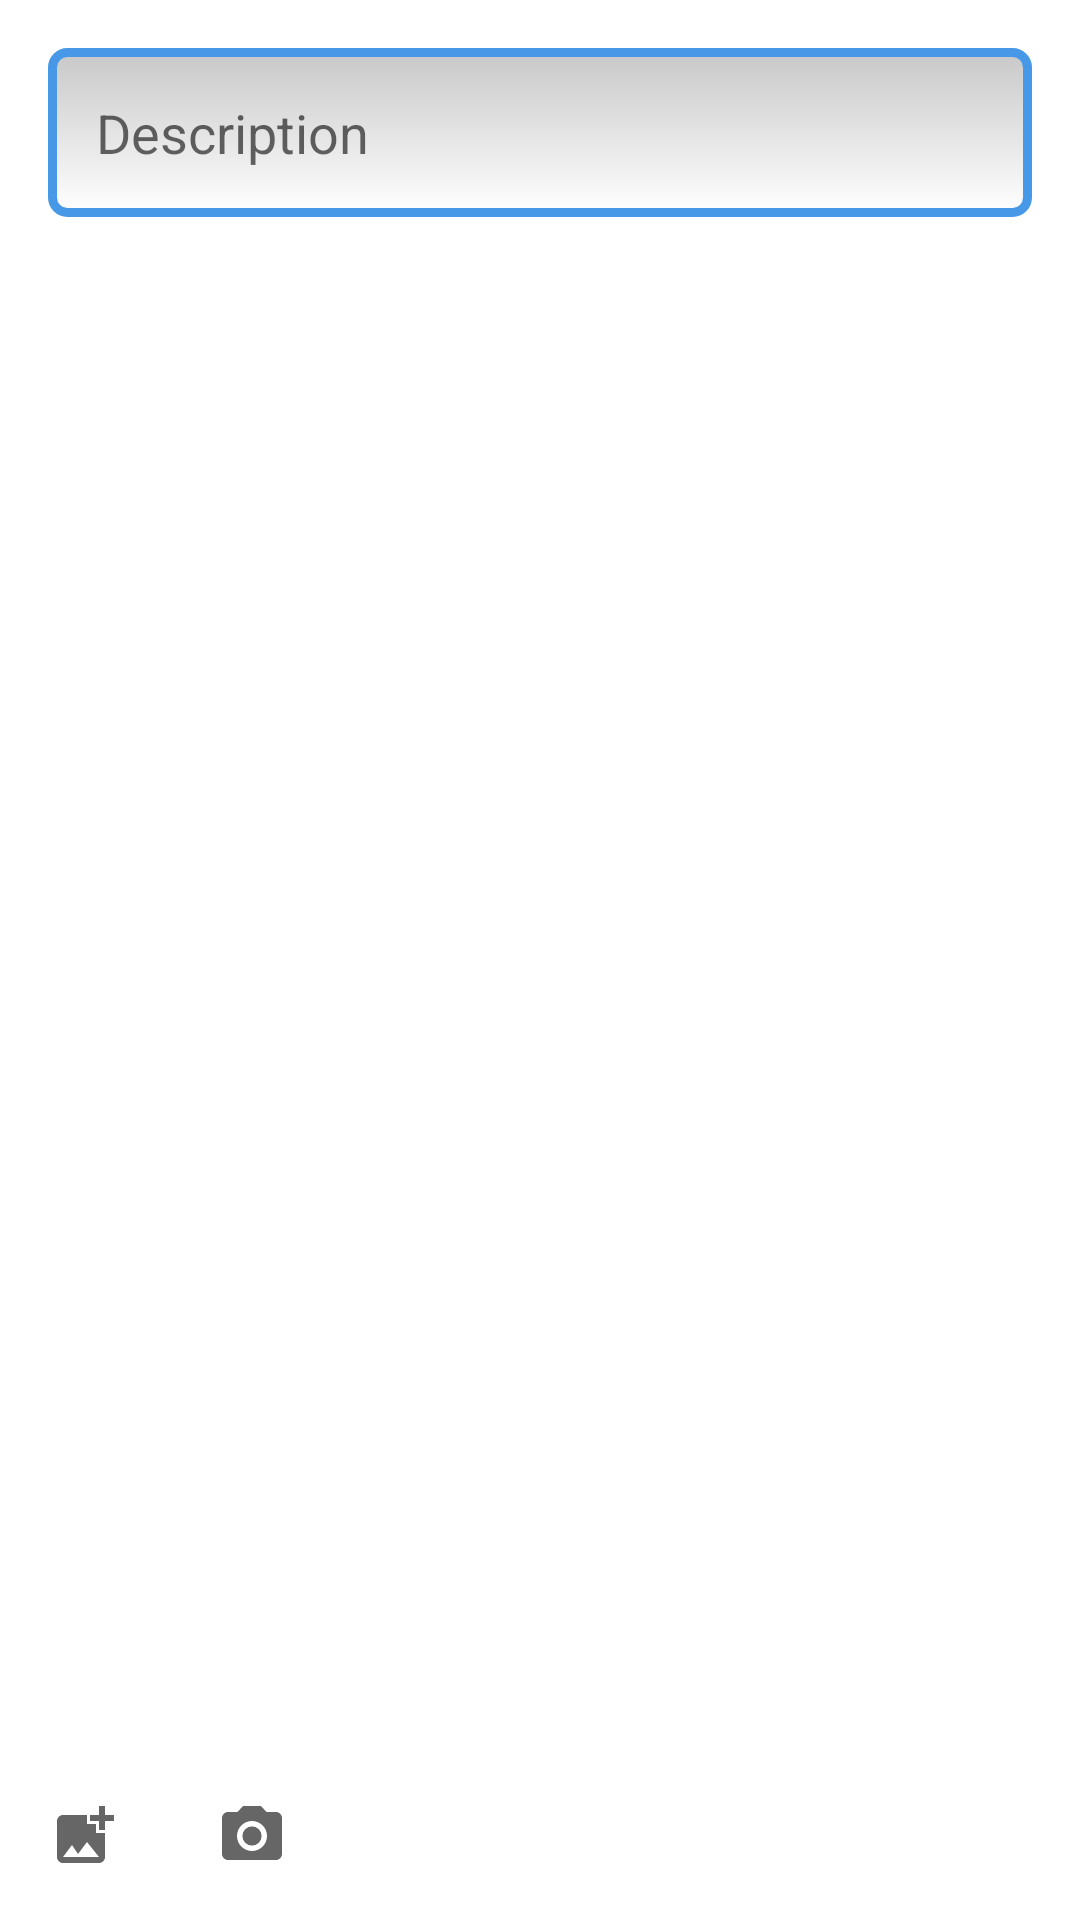

Named icons in this screenshot (1080*1920) and their centers, [x,y]:
add photo alternate: [85,1834]
camera: [252,1833]
